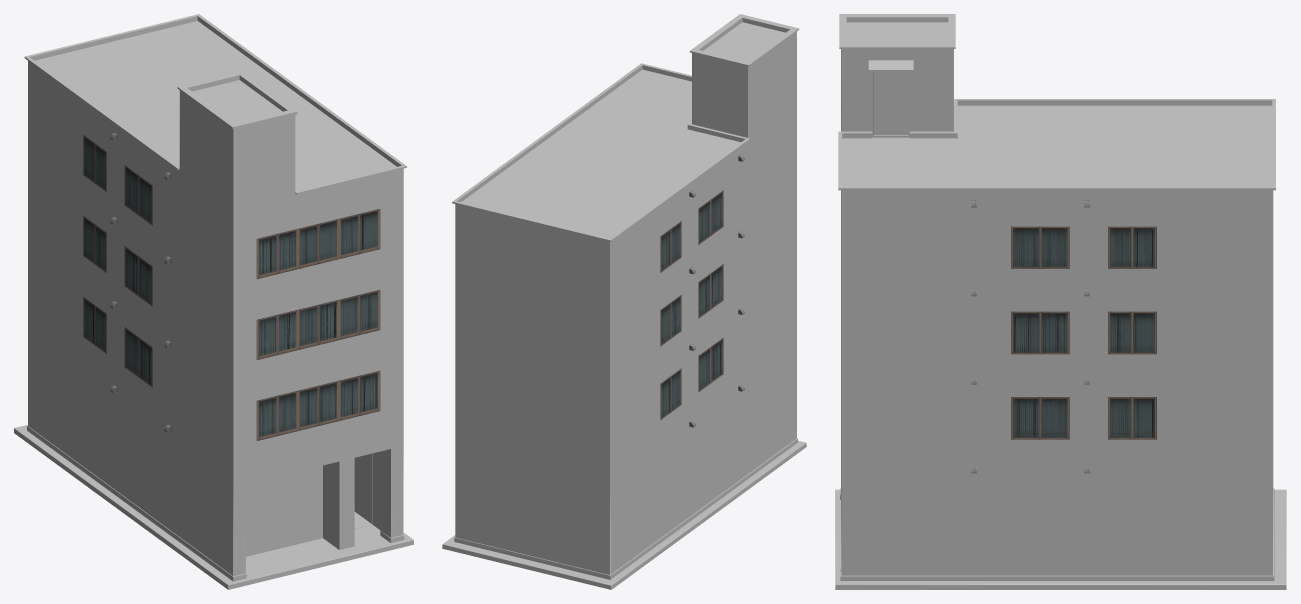
Rendered from BldD_low.fbx.
3 views of the same model, side by side, from view 1: azimuth 30°, elevation 25°; view 2: azimuth 150°, elevation 25°; view 3: azimuth 270°, elevation 25° (orthographic). The views are drawn at different scales.
Visible parts, largest first — view 1: BldD_low; view 2: BldD_low; view 3: BldD_low.
Boxes of the visible parts, box(x1,y1,x2,y2) form: BldD_low: box(14, 14, 413, 589); BldD_low: box(442, 14, 806, 589); BldD_low: box(835, 14, 1286, 589).
Size of the model in its own units: 600 by 1420 by 1200.
